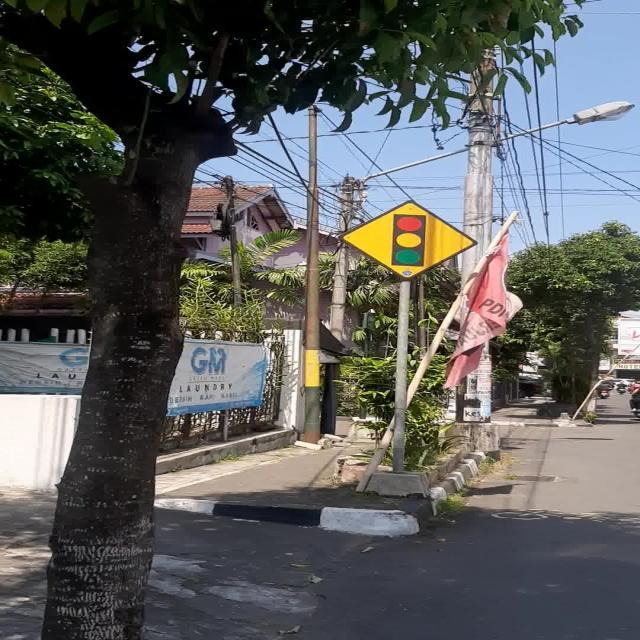Lampu Lalu Lintas: (338, 200, 478, 280)
